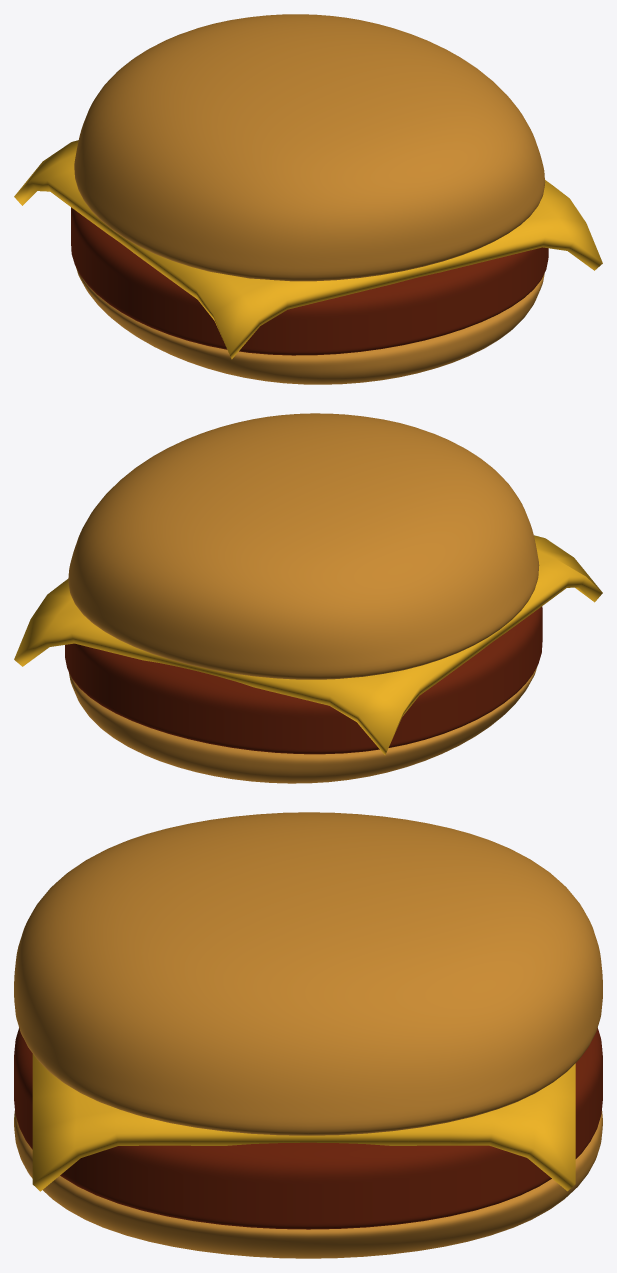
The model's file is burger.glb.
3 renders of one model, top to bottom at view 1: azimuth 30°, elevation 25°; view 2: azimuth 150°, elevation 25°; view 3: azimuth 270°, elevation 25°, orthographic. The views are drawn at different scales.
Parts seen in each view (by area): view 1: Cube.003, Cube.001, Plane, Cube; view 2: Cube.003, Cube.001, Plane, Cube; view 3: Cube.003, Cube.001, Plane, Cube.
Part boxes in pixels (left/top/right/bottom): Cube.003: left=74, top=14, right=545, bottom=281; Cube.001: left=71, top=207, right=548, bottom=355; Plane: left=14, top=140, right=602, bottom=359; Cube: left=76, top=267, right=544, bottom=384; Cube.003: left=68, top=413, right=539, bottom=679; Cube.001: left=65, top=606, right=542, bottom=754; Plane: left=14, top=535, right=602, bottom=755; Cube: left=69, top=666, right=537, bottom=783; Cube.003: left=14, top=812, right=602, bottom=1135; Cube.001: left=14, top=1028, right=602, bottom=1229; Plane: left=32, top=1054, right=575, bottom=1191; Cube: left=14, top=1111, right=602, bottom=1258.
Size of the model in its own units: 1.83 by 1.08 by 1.83.
